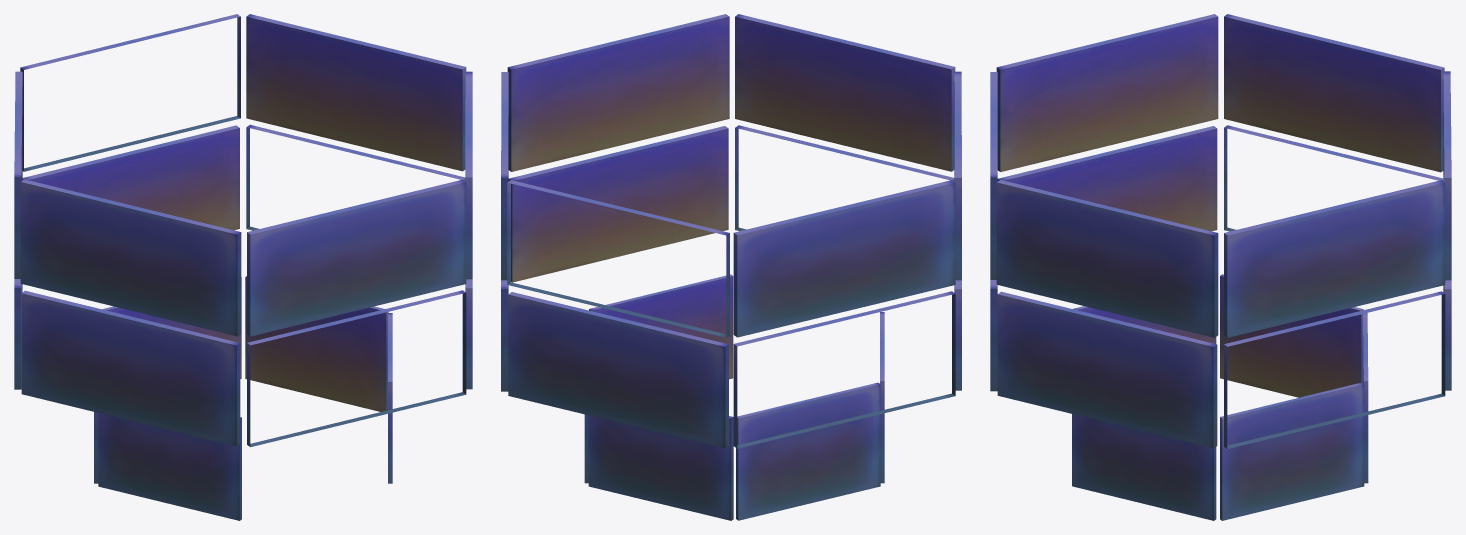
File: hexagonal_peak_tower_glass.DAE
3 renders of one model, left to right at view 1: azimuth 30°, elevation 25°; view 2: azimuth 150°, elevation 25°; view 3: azimuth 270°, elevation 25°, orthographic.
Parts seen in each view (by area): view 1: Object02; view 2: Object02; view 3: Object02.
Boxes of the visible parts, bbox=[...] form: Object02: bbox=[14, 14, 472, 520]; Object02: bbox=[501, 14, 961, 520]; Object02: bbox=[990, 14, 1451, 520].
Size of the model in its own units: 57.79 by 39.48 by 50.84.
